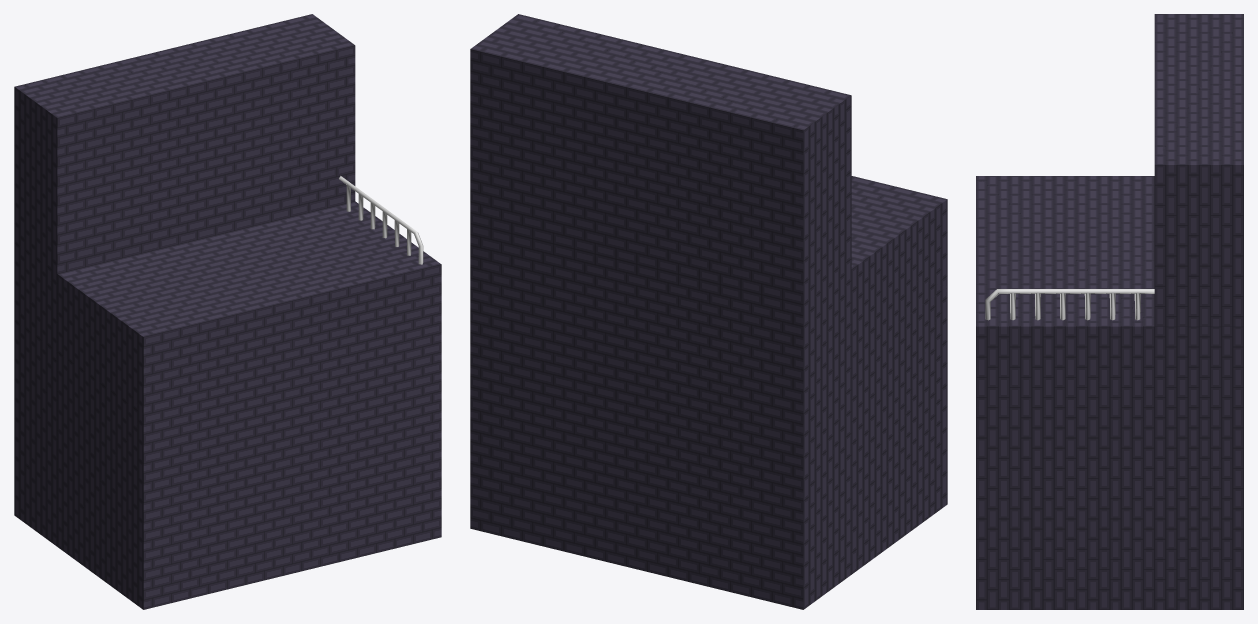
The model's file is building.glb.
3 views of the same model, side by side, from view 1: azimuth 30°, elevation 25°; view 2: azimuth 150°, elevation 25°; view 3: azimuth 270°, elevation 25° (orthographic). The views are drawn at different scales.
Parts seen in each view (by area): view 1: Plane; view 2: Plane; view 3: Plane.
Part boxes in pixels (x1=…): Plane: x1=14, y1=14, x2=441, y2=609; Plane: x1=470, y1=14, x2=947, y2=609; Plane: x1=976, y1=14, x2=1243, y2=609.
Bounding box in the file's own units: 16 × 22 × 12.
2 materials, 1 textured.
